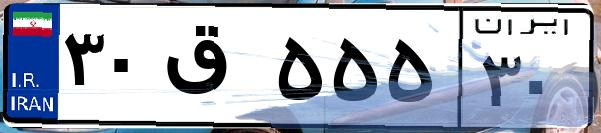0: (525, 38, 570, 115), (110, 28, 158, 98)
3: (57, 26, 110, 100), (475, 38, 525, 113)
5: (270, 28, 330, 110), (385, 28, 445, 110), (330, 28, 385, 110)
ق: (158, 20, 270, 120)
